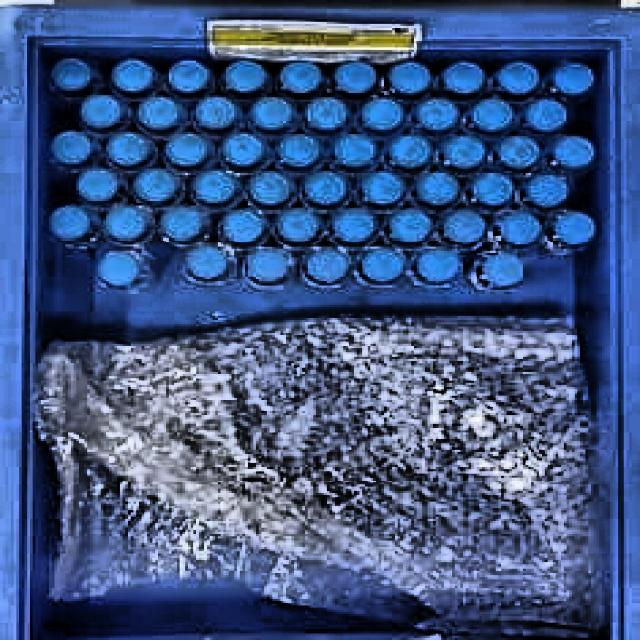vial: (477, 251, 527, 290), (355, 248, 405, 286), (216, 208, 267, 245), (106, 131, 156, 168), (549, 209, 597, 246), (441, 208, 488, 245), (157, 208, 206, 243), (303, 249, 350, 285), (496, 134, 541, 171), (415, 247, 461, 283), (359, 170, 405, 206), (132, 169, 180, 203), (497, 59, 542, 95), (387, 210, 433, 245), (331, 210, 377, 245), (247, 248, 291, 284), (497, 211, 542, 246), (277, 208, 322, 243), (441, 61, 487, 95), (387, 62, 433, 96), (164, 132, 210, 166), (103, 207, 150, 240), (333, 61, 380, 94), (223, 60, 270, 93), (48, 204, 91, 240), (249, 170, 292, 206), (304, 170, 348, 205), (80, 95, 124, 130), (415, 172, 460, 206), (75, 168, 120, 202), (166, 60, 211, 94), (50, 129, 91, 166), (188, 243, 231, 278), (111, 58, 154, 93), (387, 135, 431, 169), (279, 62, 323, 96), (249, 95, 293, 129), (277, 135, 322, 168), (136, 97, 181, 130), (442, 136, 488, 168), (97, 251, 139, 286), (192, 170, 235, 204), (552, 136, 596, 169), (468, 172, 512, 205), (552, 61, 596, 94), (525, 97, 567, 131), (224, 134, 268, 166), (528, 173, 569, 207), (471, 99, 512, 133), (333, 134, 375, 167), (197, 95, 237, 129), (304, 98, 346, 130), (416, 99, 459, 130), (52, 56, 91, 90), (362, 99, 404, 130)
